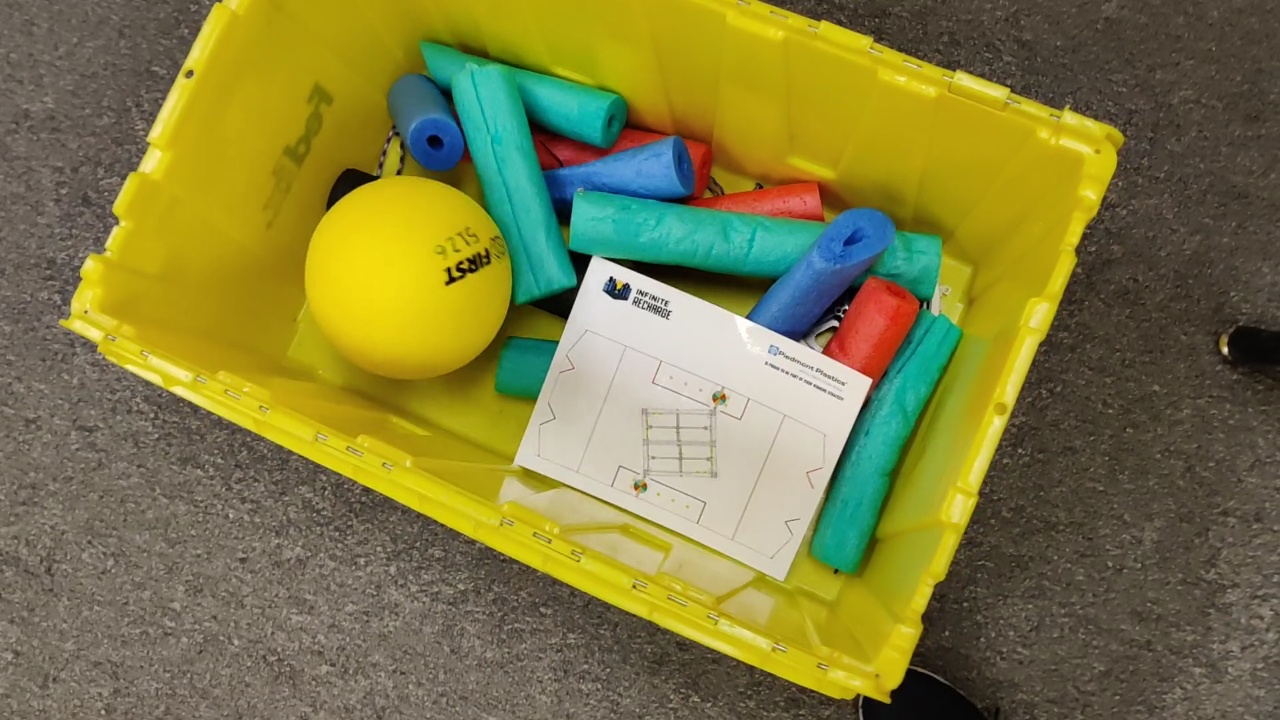Ball: (306, 178, 510, 374)
